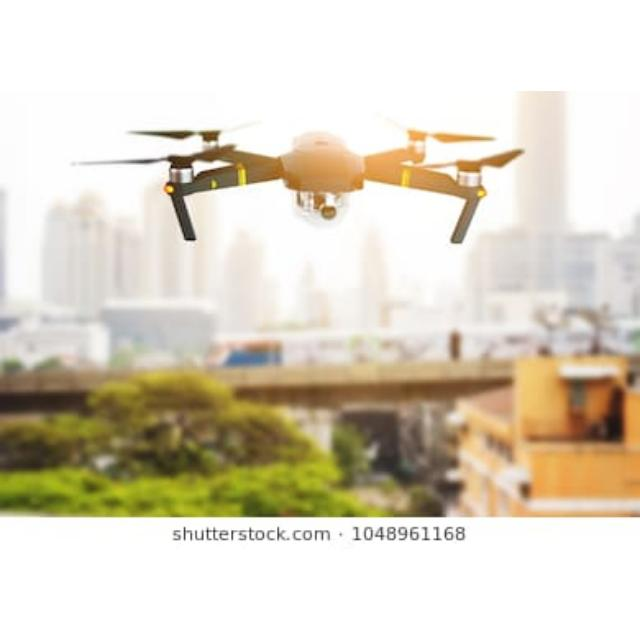Drones: (127, 125, 515, 239)
